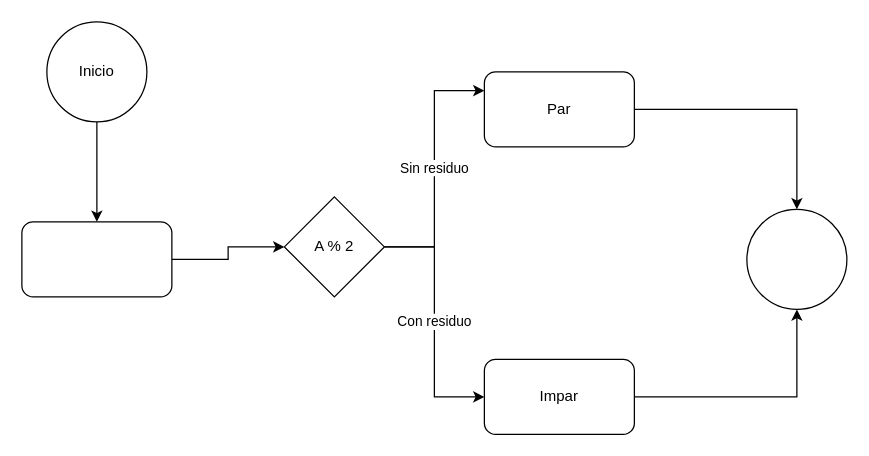
This 869x456 diagram has some shape labels left out. Each missing label, with the centre of its shape:
"Fin" goes at (x=796, y=258).
"Ingresar el valor de A" goes at (x=96, y=259).
